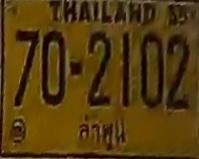0: (139, 32, 163, 107), (41, 31, 65, 104)
1: (122, 32, 130, 108)
2: (166, 34, 190, 110), (88, 32, 111, 109)
7: (15, 29, 39, 107)
LPN: (75, 114, 131, 152)
